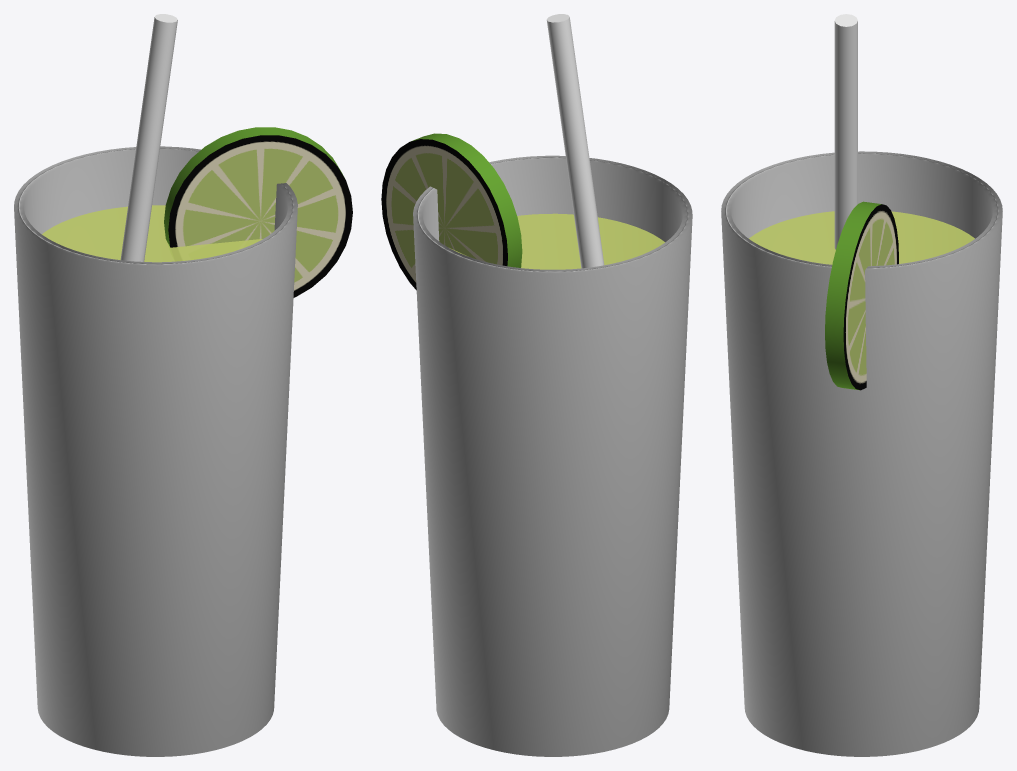
File: suco-limao.glb
3 views of the same model, side by side, from view 1: azimuth 30°, elevation 25°; view 2: azimuth 150°, elevation 25°; view 3: azimuth 270°, elevation 25° (orthographic).
Bounding box in the file's own units: 0.0897 × 0.1945 × 0.072.
6 materials, 2 textured.
